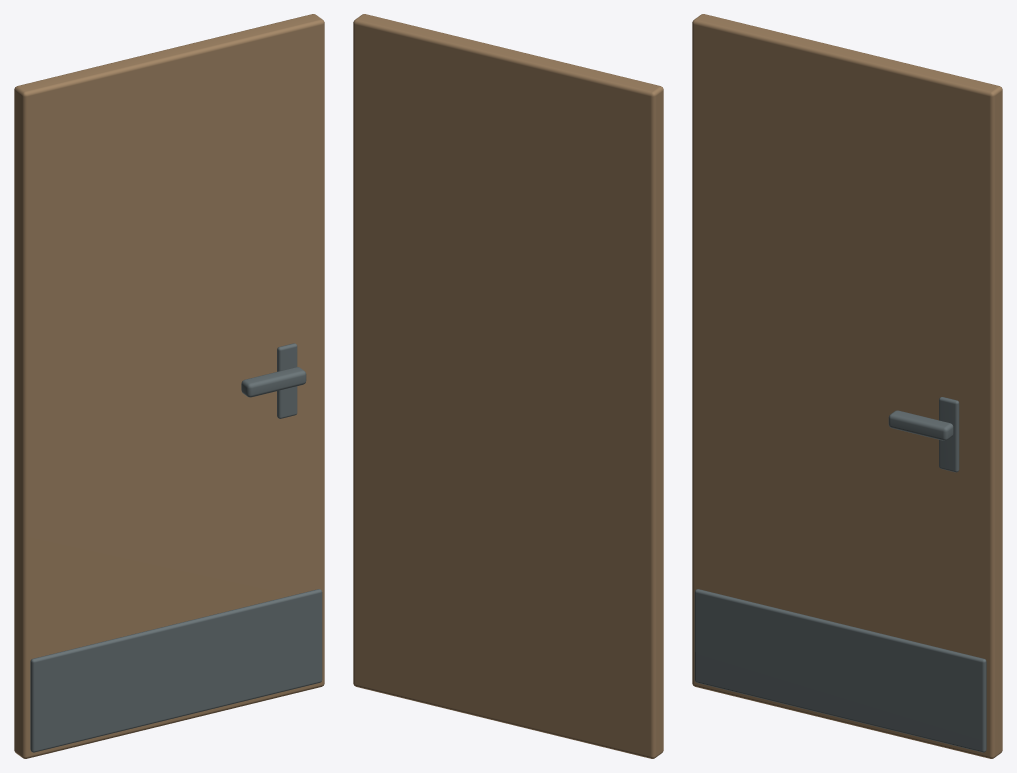
Rendered from DoorLeaf.fbx.
3 renders of one model, left to right at view 1: azimuth 30°, elevation 25°; view 2: azimuth 150°, elevation 25°; view 3: azimuth 330°, elevation 25°, orthographic.
Parts seen in each view (by area): view 1: Door leaf, Kickplate, Lever, Handle plate; view 2: Door leaf; view 3: Door leaf, Kickplate, Handle plate, Lever.
Part boxes in pixels (x1=…): Door leaf: x1=14, y1=14, x2=324, y2=758; Kickplate: x1=30, y1=589, x2=322, y2=752; Lever: x1=241, y1=367, x2=306, y2=397; Handle plate: x1=277, y1=343, x2=297, y2=418; Door leaf: x1=353, y1=14, x2=663, y2=758; Door leaf: x1=692, y1=14, x2=1002, y2=758; Kickplate: x1=694, y1=589, x2=986, y2=752; Handle plate: x1=939, y1=397, x2=959, y2=472; Lever: x1=888, y1=410, x2=953, y2=440.
Bounding box in the file's own units: 102 × 215 × 14.75.
